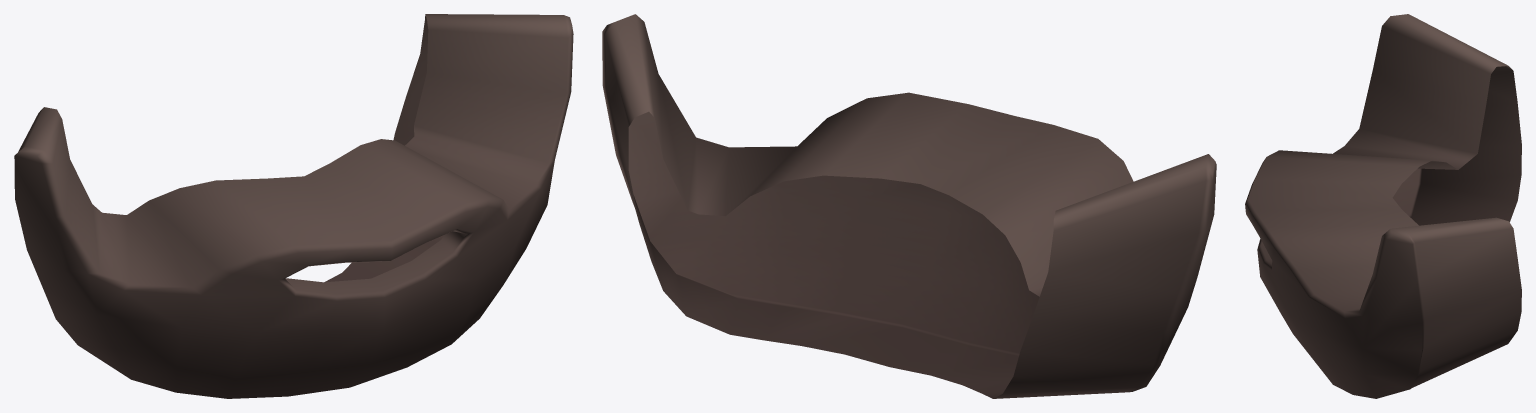
Rendered from Beard_02.glb.
3 views of the same model, side by side, from view 1: azimuth 30°, elevation 25°; view 2: azimuth 150°, elevation 25°; view 3: azimuth 270°, elevation 25° (orthographic). The views are drawn at different scales.
Visible parts, largest first — view 1: Beard_02; view 2: Beard_02; view 3: Beard_02.
Part boxes in pixels (box(x1,y1,x2,y2)): Beard_02: box(14, 14, 573, 398); Beard_02: box(602, 14, 1216, 398); Beard_02: box(1245, 14, 1521, 398).
Bounding box in the file's own units: 0.5725 × 0.2644 × 0.2959.
1 material, 1 textured.
